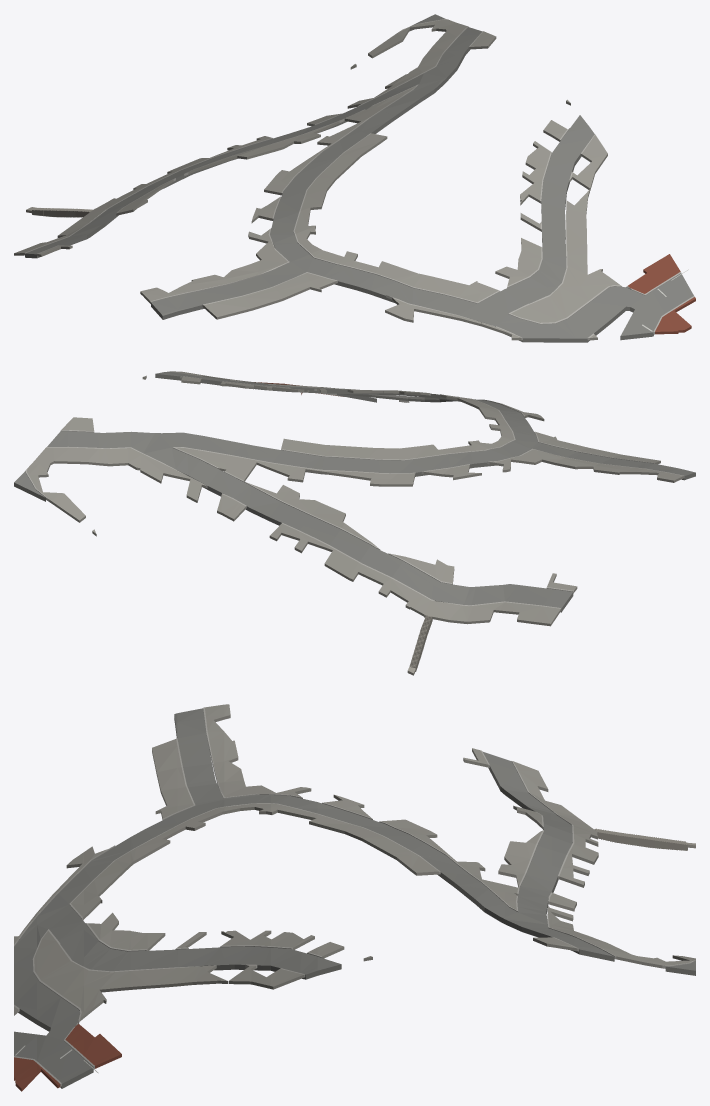
3 renders of one model, top to bottom at view 1: azimuth 30°, elevation 25°; view 2: azimuth 150°, elevation 25°; view 3: azimuth 270°, elevation 25°, orthographic. The views are drawn at different scales.
Size of the model in its own units: 150 by 37.62 by 146.
